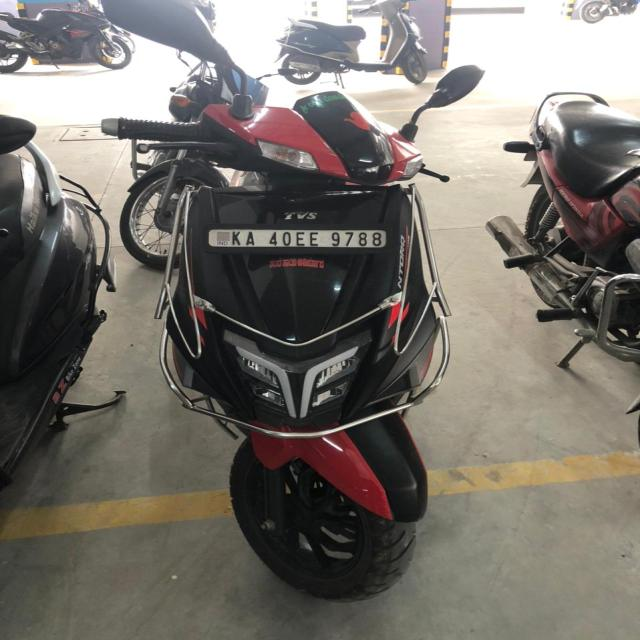number plate: (206, 227, 388, 250)
